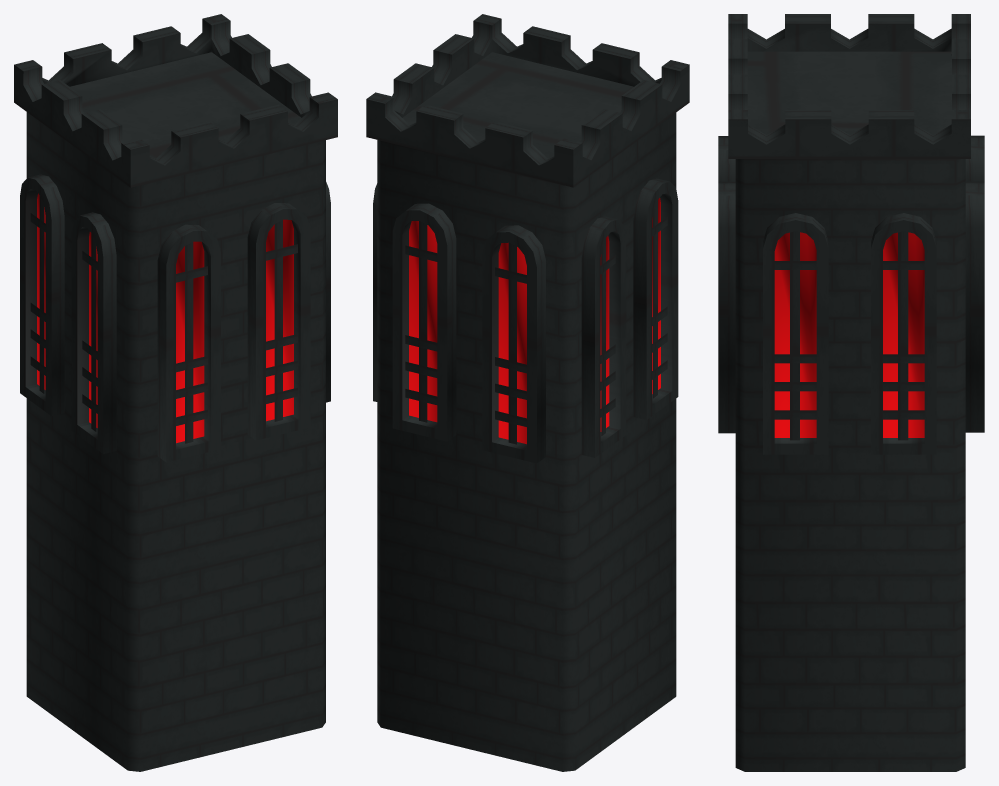
File: Coast Spire.fbx
3 views of the same model, side by side, from view 1: azimuth 30°, elevation 25°; view 2: azimuth 150°, elevation 25°; view 3: azimuth 270°, elevation 25° (orthographic). The views are drawn at different scales.
Visible parts, largest first — view 1: OOB Spire; view 2: OOB Spire; view 3: OOB Spire.
Part boxes in pixels (x1,y1,x2,y2): OOB Spire: (14, 14, 337, 771); OOB Spire: (366, 14, 689, 771); OOB Spire: (718, 14, 984, 771).
Bounding box in the file's own units: 3546 × 9459 × 3490.
